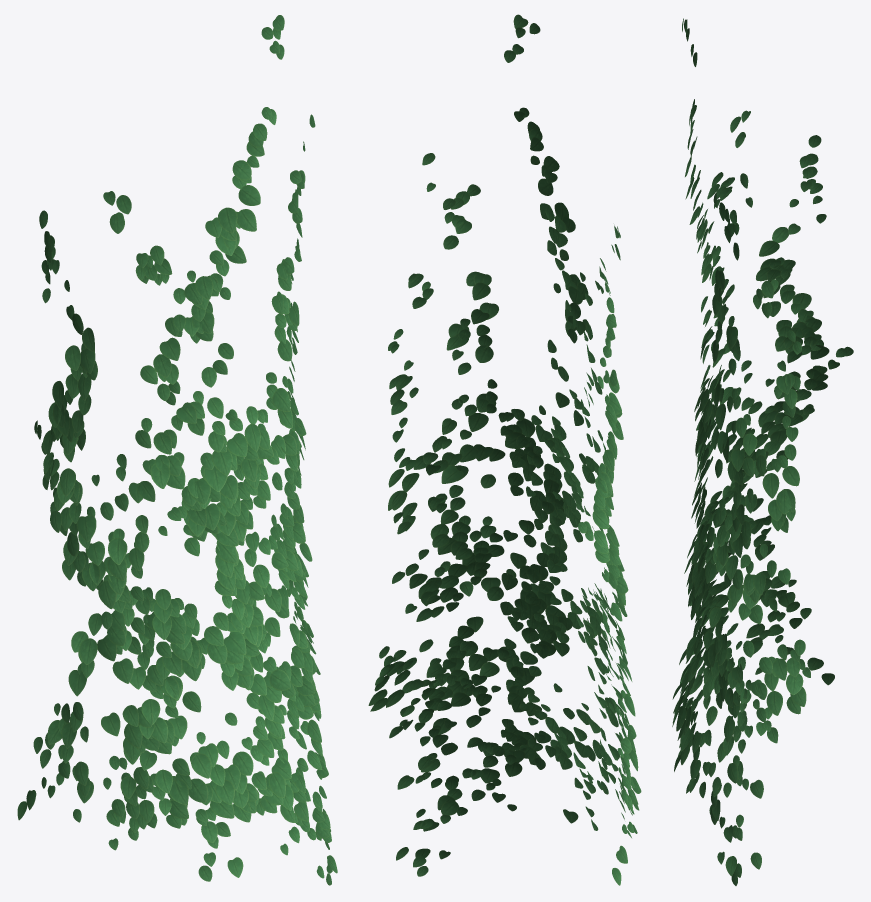
File: ivy_corner2.fbx
3 renders of one model, left to right at view 1: azimuth 30°, elevation 25°; view 2: azimuth 150°, elevation 25°; view 3: azimuth 270°, elevation 25°, orthographic. The views are drawn at different scales.
Parts seen in each view (by area): view 1: iveLeaf_3.063; view 2: iveLeaf_3.063; view 3: iveLeaf_3.063.
Part boxes in pixels (x1,y1,x2,y2): iveLeaf_3.063: [17, 15, 337, 885]; iveLeaf_3.063: [368, 14, 641, 885]; iveLeaf_3.063: [672, 18, 853, 885].
Size of the model in its own units: 601 by 1865 by 376.
